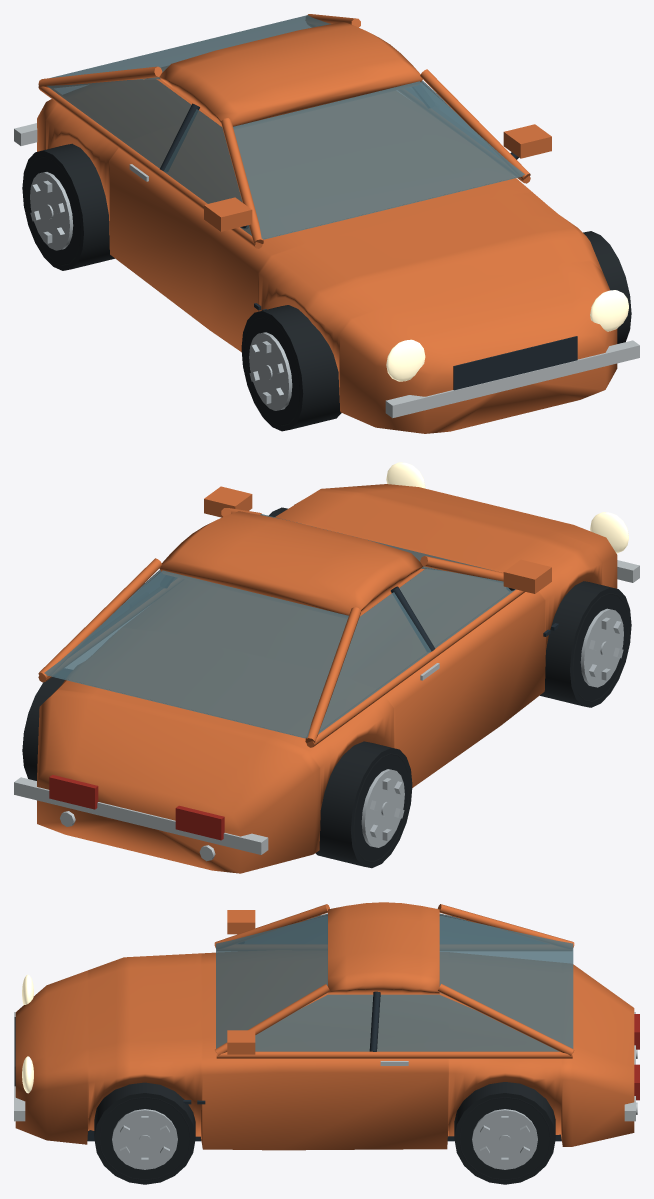
The model's file is fairwind.glb.
3 views of the same model, one above another, from view 1: azimuth 30°, elevation 25°; view 2: azimuth 150°, elevation 25°; view 3: azimuth 270°, elevation 25° (orthographic). The views are drawn at different scales.
Visible parts, largest first — view 1: exterior-paint, windows, tire-front-left, tire-rear-left, chrome, black-trim, rim-rear-left, rim-front-left, headlights, tire-front-right; view 2: exterior-paint, windows, tire-rear-left, tire-front-left, chrome, rim-front-left, rim-rear-left, taillights, headlights, tire-rear-right, black-trim; view 3: exterior-paint, windows, tire-rear-right, tire-front-right, rim-front-right, rim-rear-right, black-trim, chrome, headlights, taillights.
Boxes of the visible parts, box(x1,y1,x2,y2) form: exterior-paint: box(37, 14, 617, 433); windows: box(47, 15, 524, 239); tire-front-left: box(241, 305, 341, 431); tire-rear-left: box(22, 143, 114, 270); chrome: box(14, 123, 639, 418); black-trim: box(160, 103, 577, 390); rim-rear-left: box(30, 172, 73, 250); rim-front-left: box(249, 332, 292, 410); headlights: box(386, 290, 628, 381); tire-front-right: box(583, 231, 631, 343); exterior-paint: box(37, 484, 617, 873); windows: box(44, 514, 515, 738); tire-rear-left: box(315, 741, 412, 868); tire-front-left: box(540, 581, 631, 707); chrome: box(14, 560, 639, 861); rim-front-left: box(580, 608, 623, 687); rim-rear-left: box(361, 769, 404, 847); taillights: box(49, 775, 224, 840); headlights: box(386, 462, 628, 553); tire-rear-right: box(22, 669, 71, 780); black-trim: box(167, 582, 558, 651); exterior-paint: box(15, 902, 634, 1150); windows: box(216, 913, 573, 1051); tire-rear-right: box(454, 1082, 555, 1184); tire-front-right: box(94, 1082, 195, 1184); rim-front-right: box(112, 1109, 177, 1169); rim-rear-right: box(472, 1109, 537, 1169); black-trim: box(14, 991, 561, 1141); chrome: box(14, 1012, 637, 1121); headlights: box(22, 974, 33, 1093); taillights: box(634, 1014, 639, 1100).
Bounding box in the file's own units: 1.87 × 1.16 × 3.58.
